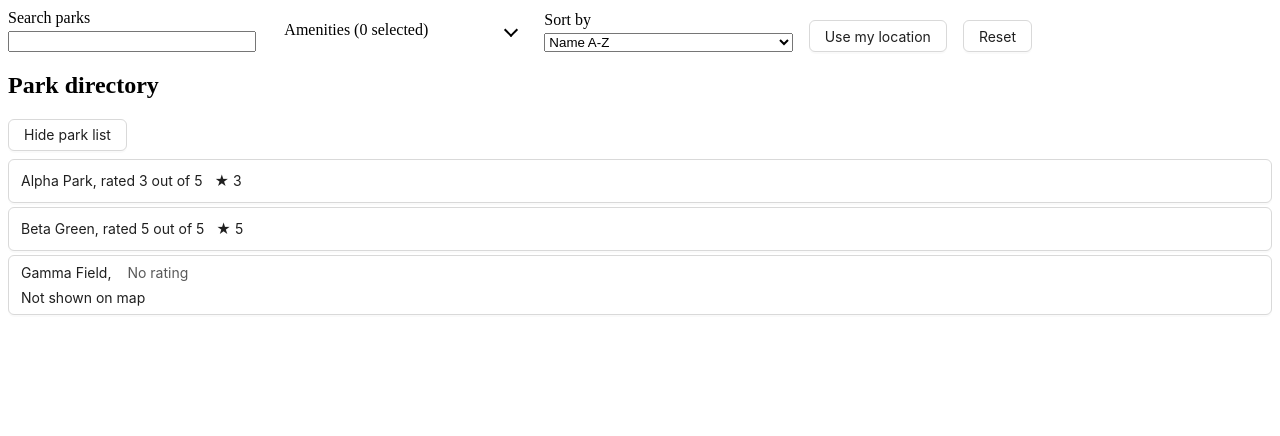
Scenario: SearchBar › use my location › does not offer a location message about name when sorting by rating
Select "Rating high-low" in the dropdown labelled "Sort by" at (668, 42), box [544, 33, 793, 52]
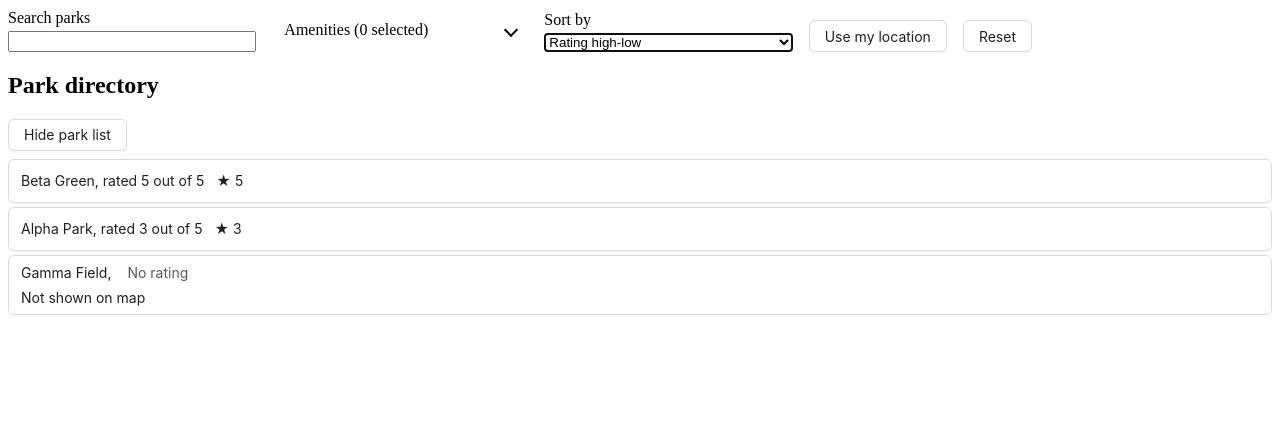
Click the button "Use my location" at (878, 36), box [809, 20, 947, 52]
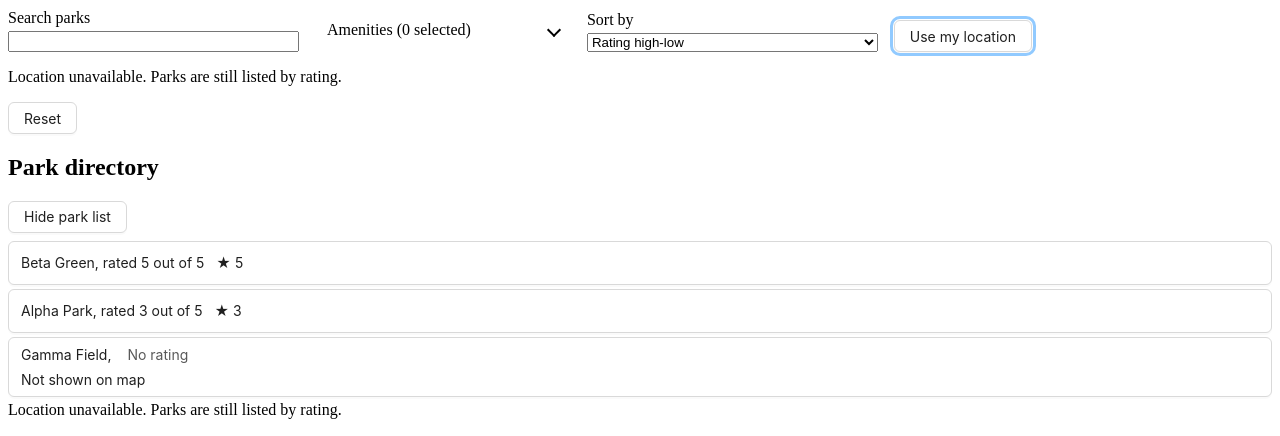
Expected: the text "Location unavailable. Parks are still listed by rating." is shown, [8, 68, 342, 85]
